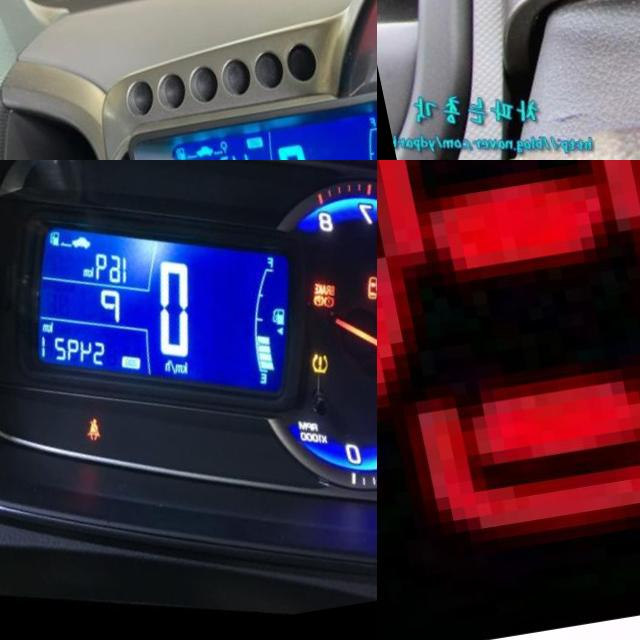Doors: (377, 160, 640, 550), (349, 287, 372, 314)
